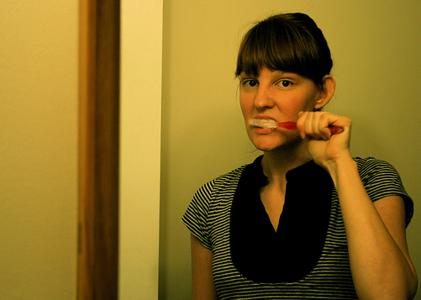person: (185, 13, 420, 300)
